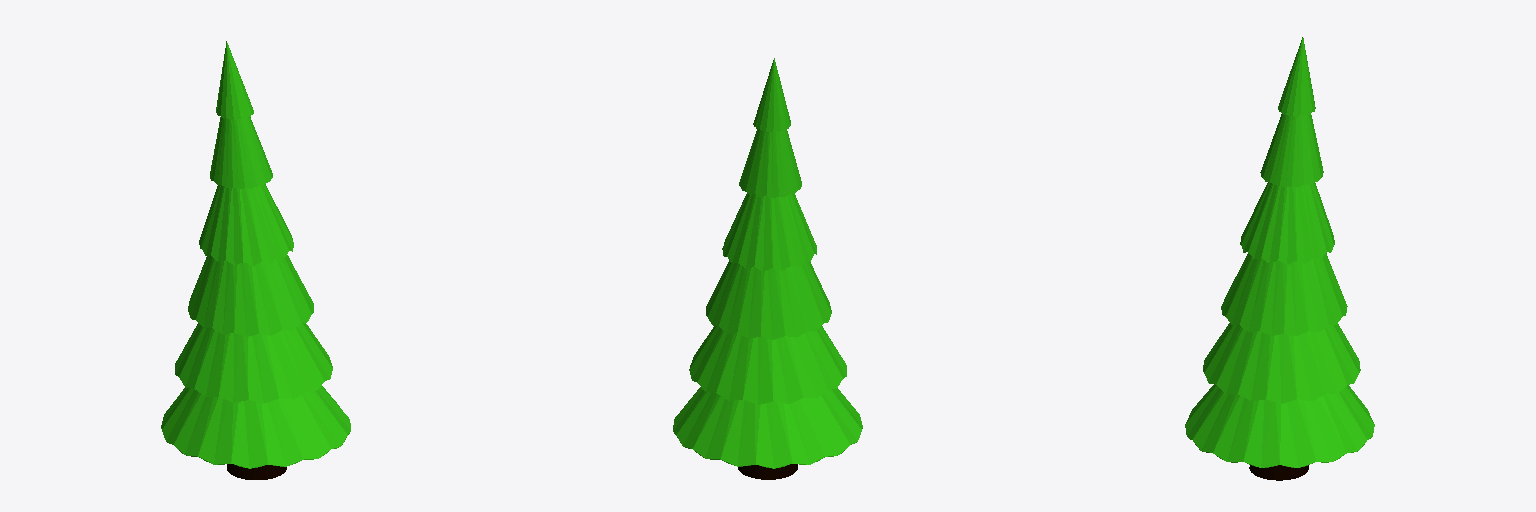
The model's file is lowPolyTree2.obj.
3 views of the same model, side by side, from view 1: azimuth 30°, elevation 25°; view 2: azimuth 150°, elevation 25°; view 3: azimuth 270°, elevation 25° (orthographic).
Parts seen in each view (by area): view 1: Cylinder.001; view 2: Cylinder.001; view 3: Cylinder.001.
Boxes of the visible parts, box(x1,y1,x2,y2) form: Cylinder.001: box(161, 41, 350, 479); Cylinder.001: box(673, 58, 862, 479); Cylinder.001: box(1185, 37, 1374, 480).
Bounding box in the file's own units: 5.4 × 13.25 × 5.39.